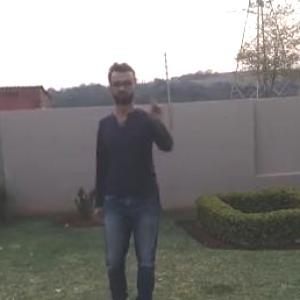land_hand: (139, 87, 171, 132)
